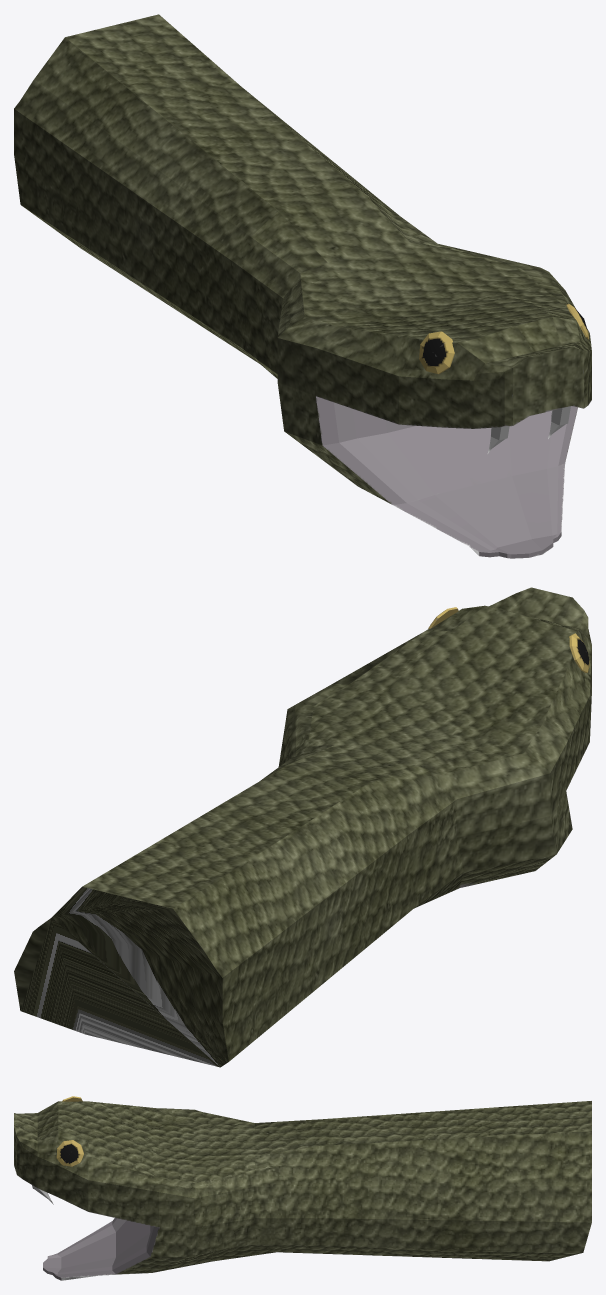
Rendered from Head.fbx.
3 views of the same model, one above another, from view 1: azimuth 30°, elevation 25°; view 2: azimuth 150°, elevation 25°; view 3: azimuth 270°, elevation 25° (orthographic). The views are drawn at different scales.
Visible parts, largest first — view 1: pCylinder6; view 2: pCylinder6; view 3: pCylinder6.
Part boxes in pixels (left/top/right/bottom): pCylinder6: left=14, top=14, right=591, bottom=558; pCylinder6: left=14, top=587, right=591, bottom=1067; pCylinder6: left=14, top=1096, right=591, bottom=1280.
Bounding box in the file's own units: 6.55 × 5.23 × 18.31.
1 material, 1 textured.
